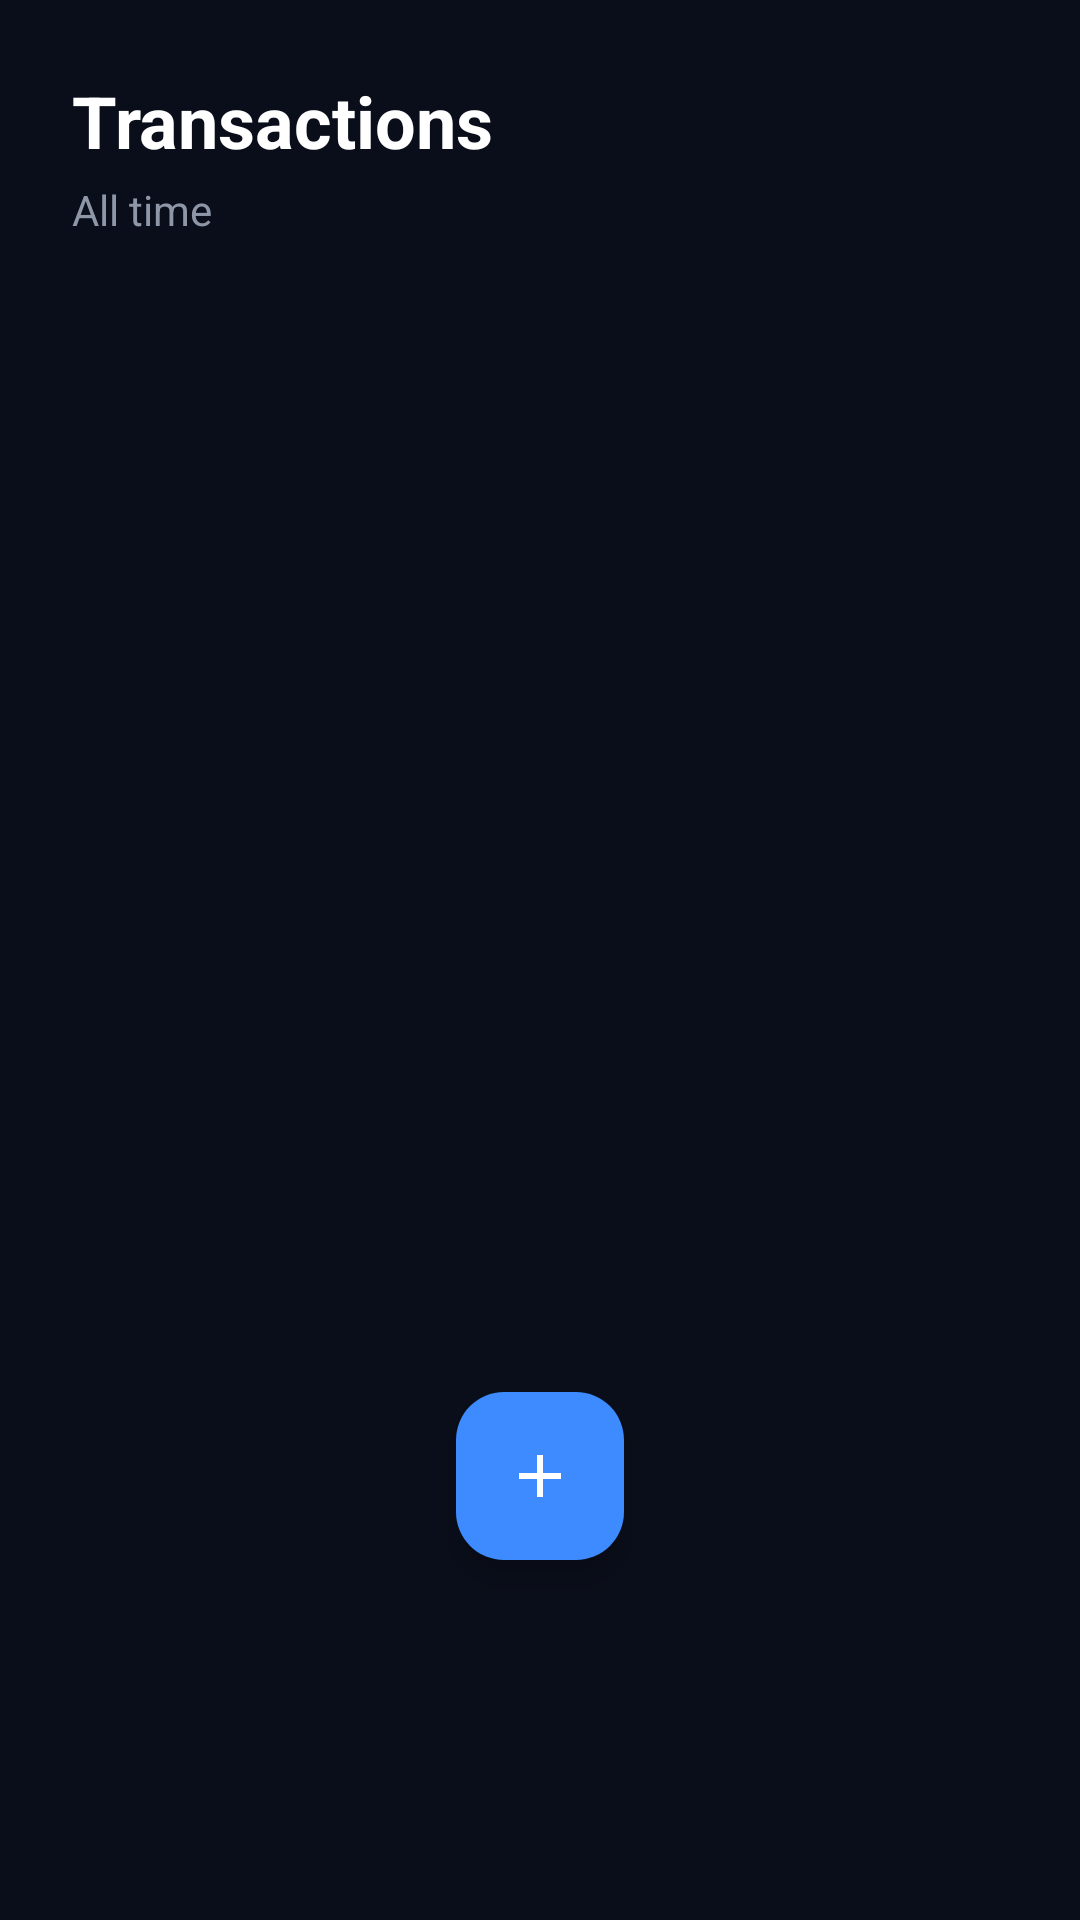

Icons on this 1080px x 1920px Android screen, each with its box as (x1, y1, x2, y2):
add: (456, 1392, 624, 1560)
